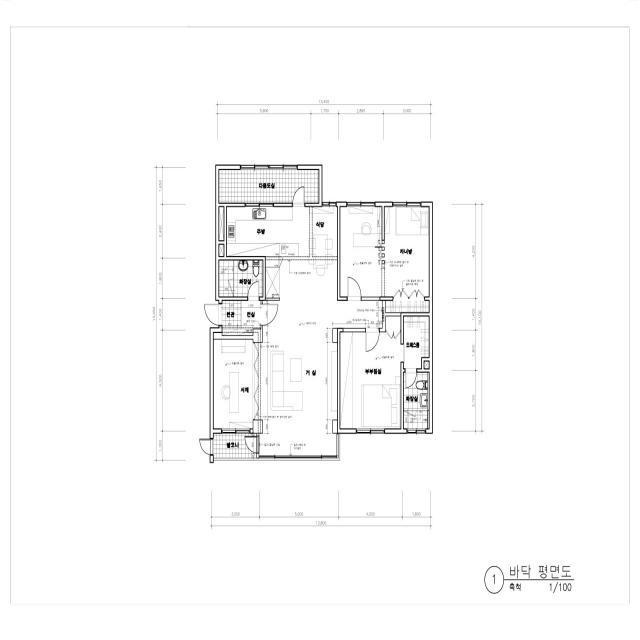space_balconi: (213, 433, 256, 458)
space_bedroom: (340, 207, 429, 312), (340, 316, 404, 429)
space_dressroom: (404, 317, 429, 368)
space_front: (218, 301, 263, 335)
space_kitchen: (227, 207, 337, 301)
space_living_room: (259, 301, 382, 456)
space_multipurpose_space: (219, 170, 319, 203)
space_other: (214, 340, 263, 429)
space_toilet: (219, 261, 263, 297), (404, 373, 429, 429)
